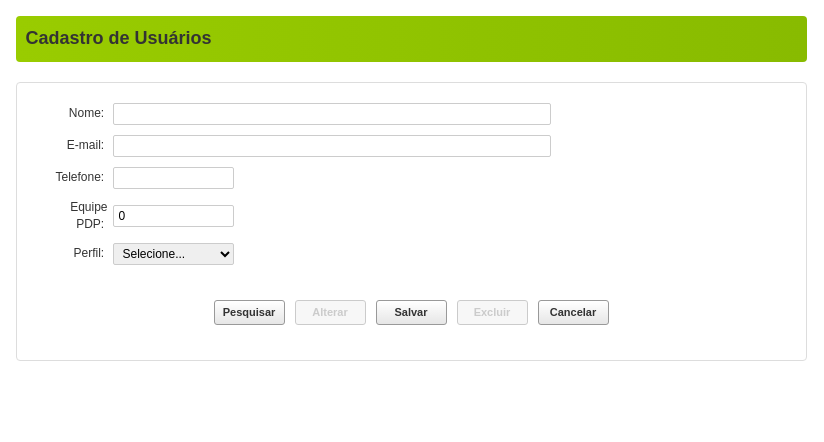
Scenario: UserRegistry Component › Pesquisa de Usuários › deve exibir mensagem de erro em caso de falha
Click the button "Pesquisar". click: (249, 312)
box: [214, 300, 284, 325]
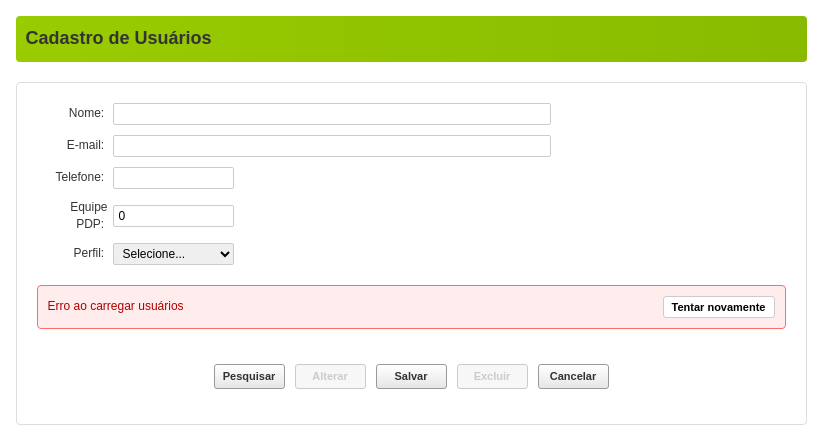
Result: the text "Erro ao carregar usuários" is shown at [48, 298, 184, 316]
